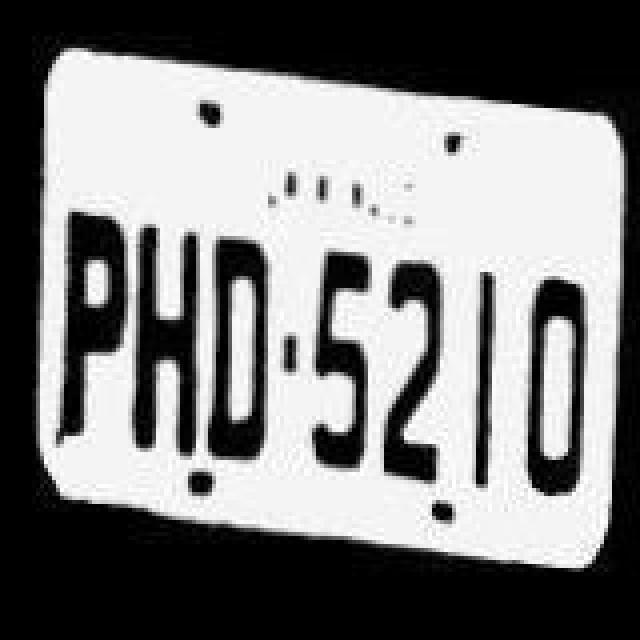1: (464, 256, 516, 508)
2: (380, 246, 456, 502)
5: (308, 236, 384, 496)
D: (204, 228, 280, 488)
H: (126, 220, 206, 468)
O: (518, 256, 598, 512)
P: (54, 194, 134, 470)
